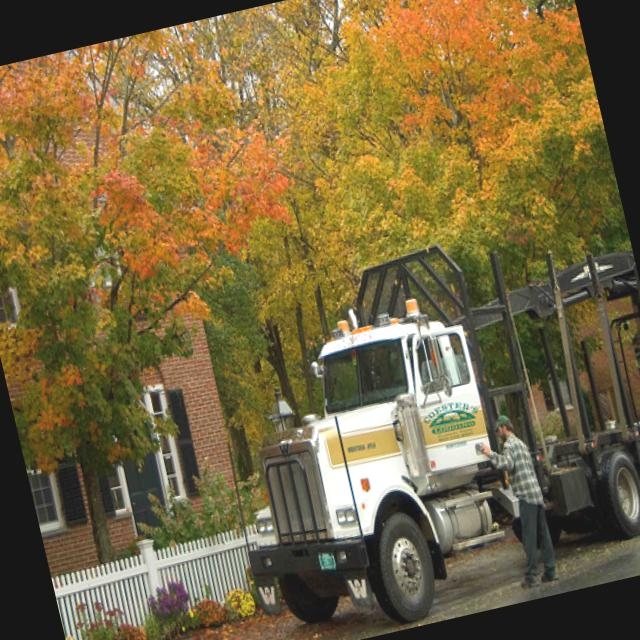Vehicle: (189, 200, 640, 640)
